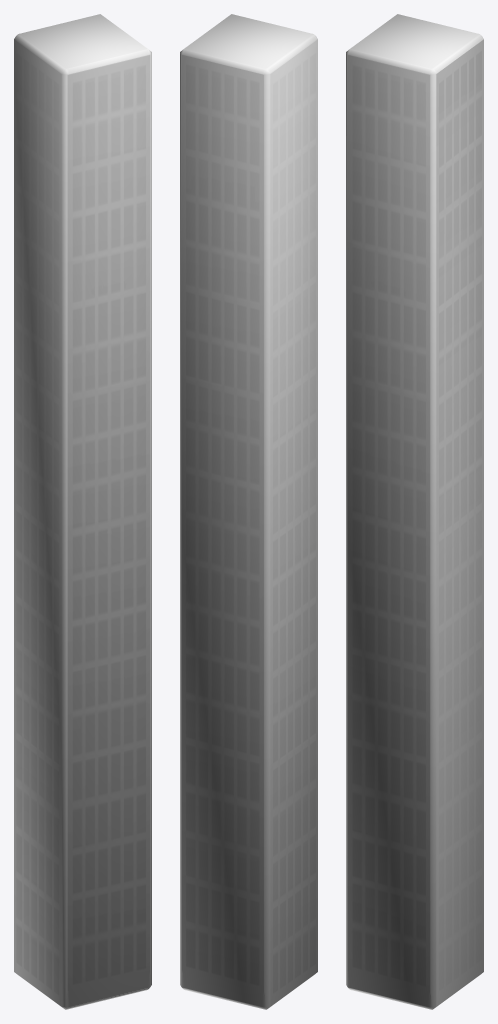
Rendered from building2.1.fbx.
3 renders of one model, left to right at view 1: azimuth 30°, elevation 25°; view 2: azimuth 150°, elevation 25°; view 3: azimuth 330°, elevation 25°, orthographic.
Visible parts, largest first — view 1: Cube; view 2: Cube; view 3: Cube.
Boxes of the visible parts, x1,y1,x2,y2 form: Cube: (14,14,151,1009); Cube: (180,14,317,1009); Cube: (346,14,483,1009).
Bounding box in the file's own units: 221 × 2200 × 221.
